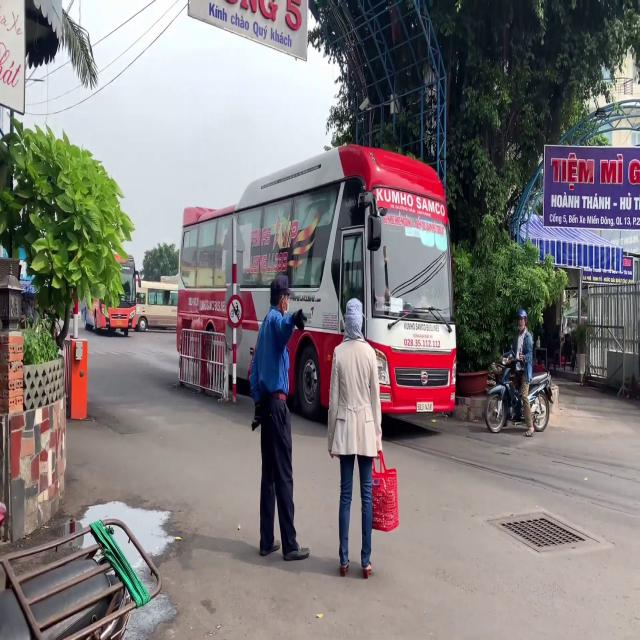bien_trang: (416, 400, 434, 412)
